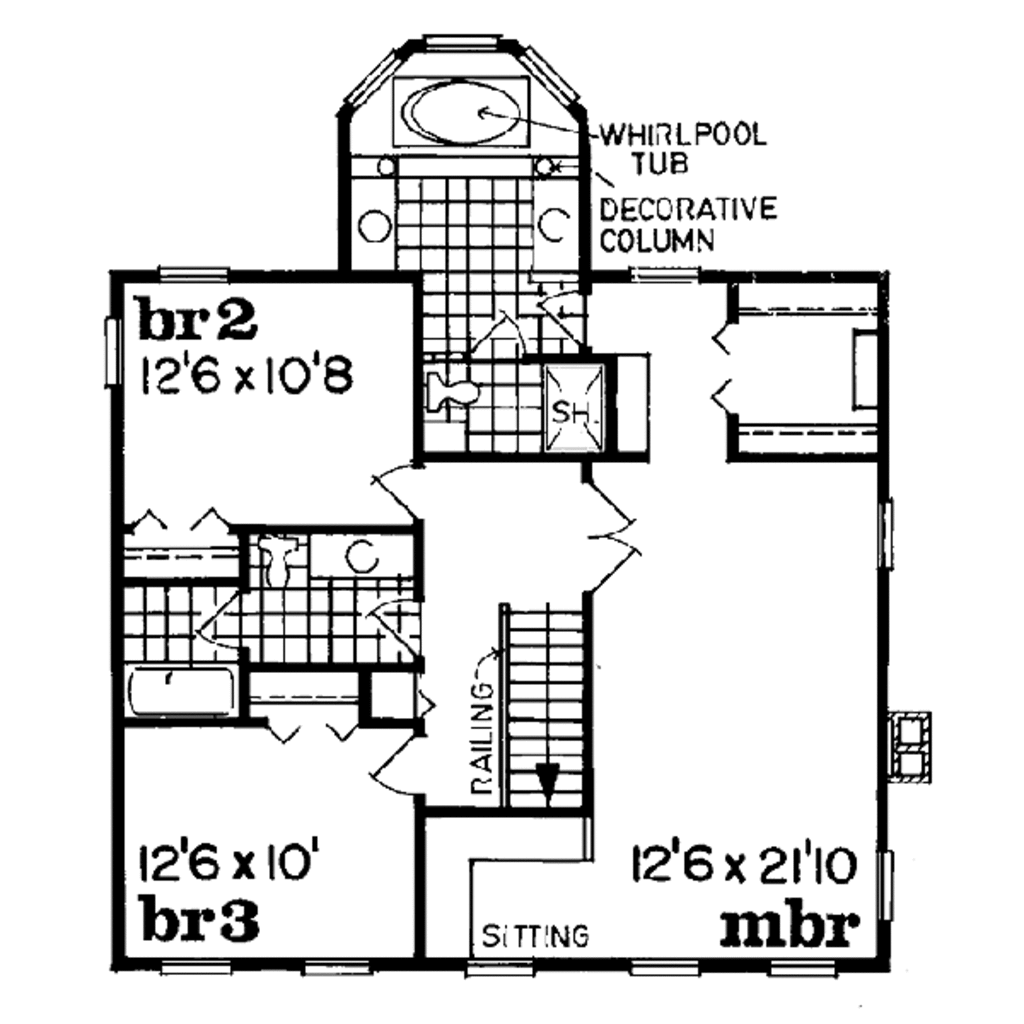door: (576, 474, 637, 597), (360, 462, 422, 511)
large_sink: (415, 366, 488, 420), (256, 533, 303, 586)
small_sink: (526, 179, 583, 285), (338, 174, 398, 273), (304, 531, 417, 573)
stairs: (495, 603, 598, 810)
tub: (392, 70, 537, 161), (115, 660, 242, 720)
windows: (99, 319, 136, 393), (148, 263, 234, 294), (156, 951, 236, 983), (620, 954, 703, 984), (461, 951, 537, 983), (620, 262, 701, 291), (766, 956, 847, 984), (290, 958, 376, 979)
